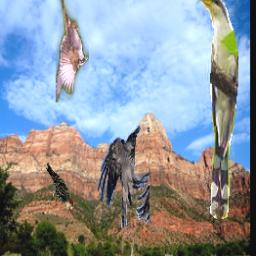Crow: (97, 125, 149, 228)
Cuckoo: (197, 0, 237, 219)
Sparrow: (56, 0, 89, 102)
Woodpecker: (46, 163, 75, 212)
